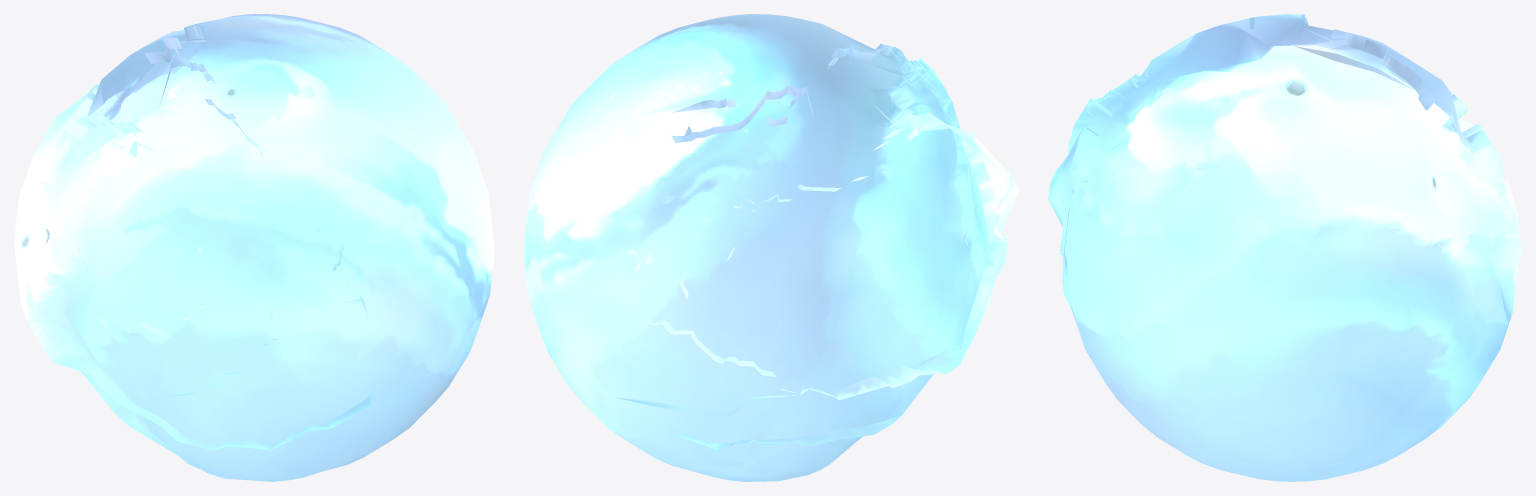
Rendered from fantasysky.glb.
3 views of the same model, side by side, from view 1: azimuth 30°, elevation 25°; view 2: azimuth 150°, elevation 25°; view 3: azimuth 270°, elevation 25° (orthographic). The views are drawn at different scales.
Visible parts, largest first — view 1: Object001_Material__25__background_JPG_002_0; view 2: Object001_Material__25__background_JPG_002_0; view 3: Object001_Material__25__background_JPG_002_0.
Part boxes in pixels (x1,y1,x2,y2): Object001_Material__25__background_JPG_002_0: [14, 14, 494, 481]; Object001_Material__25__background_JPG_002_0: [523, 14, 1019, 481]; Object001_Material__25__background_JPG_002_0: [1048, 14, 1521, 481].
Size of the model in its own units: 33.29 by 31.24 by 32.01.
